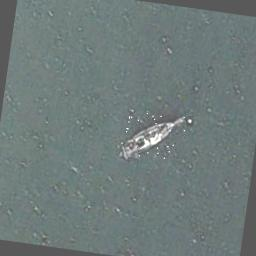boat: (119, 109, 186, 163)
